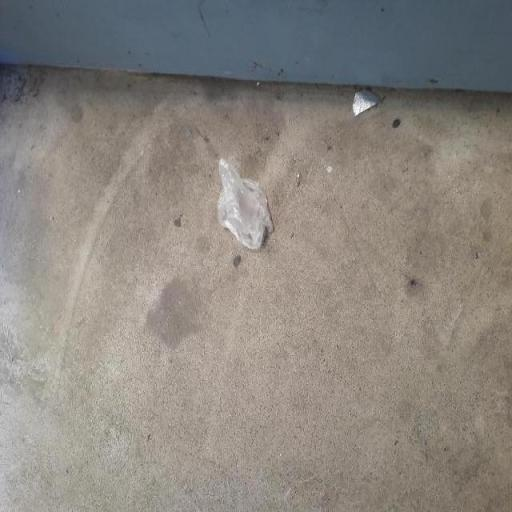plastic-bag: (214, 154, 276, 252)
